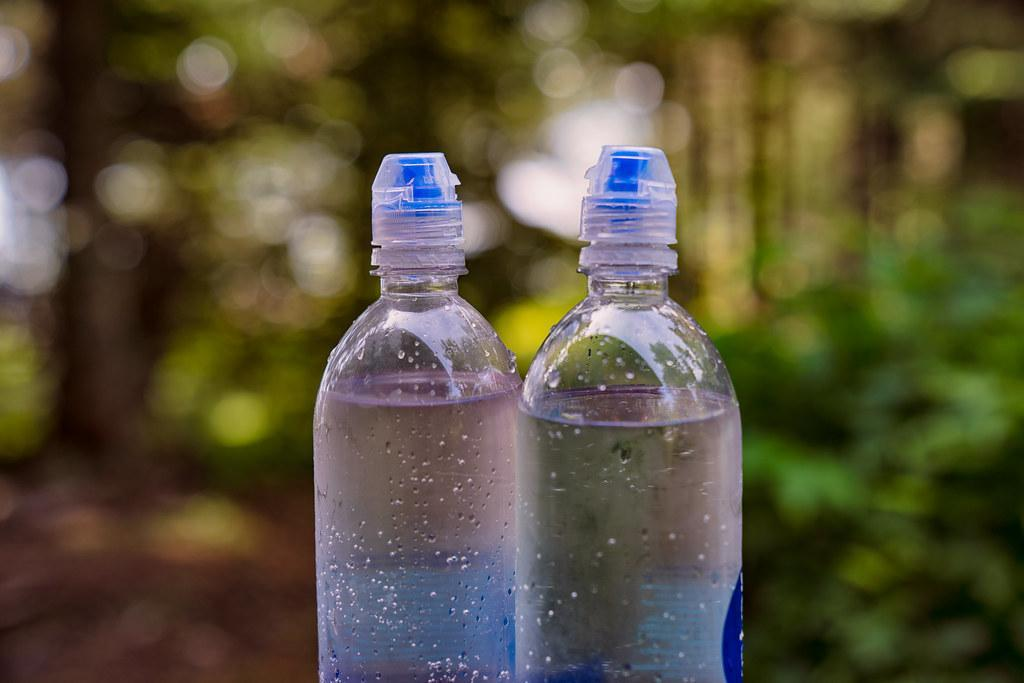bottle: (519, 127, 750, 680), (302, 129, 520, 683)
